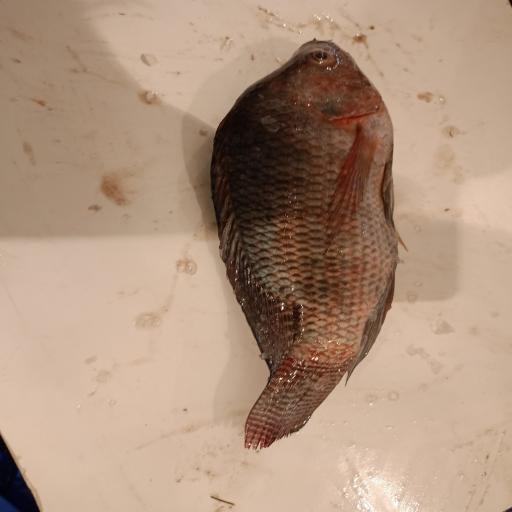Tilapia: (210, 38, 407, 450)
